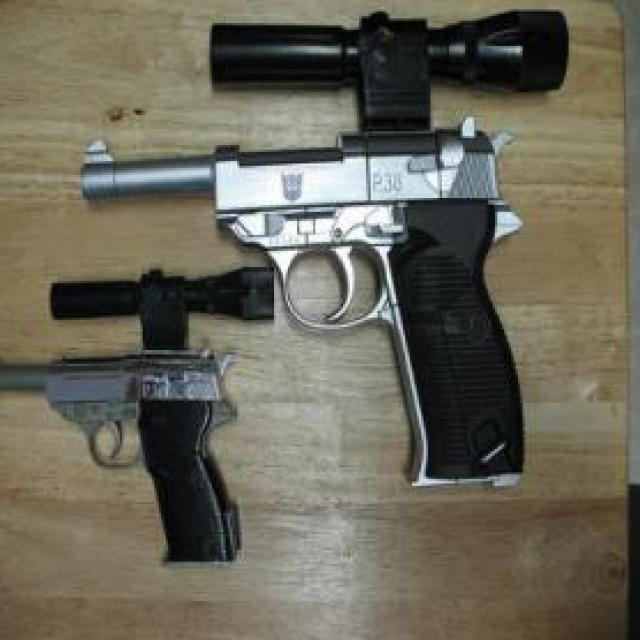pistol: (76, 115, 519, 490), (0, 343, 242, 564)
